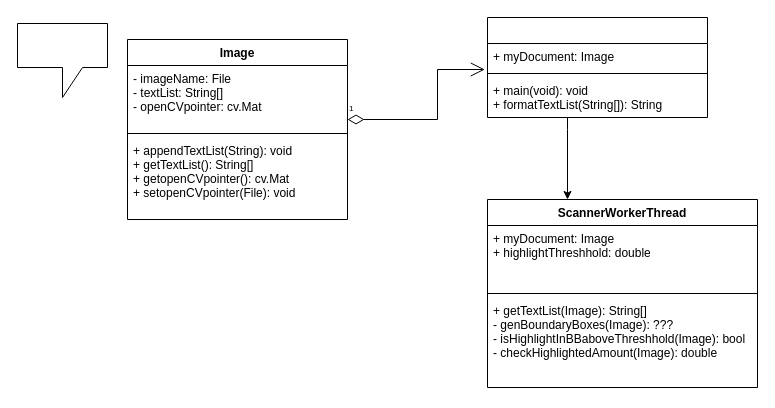
Some shapes in this 775 by 408 pixel diagram are drawn without their labels. Here are the shapes that lost their labels. From the top down, the box of each, then its label:
(16, 22, 108, 98): Pytessaract has support for images represented in an openCV object
(486, 16, 708, 118): ScannerMain
